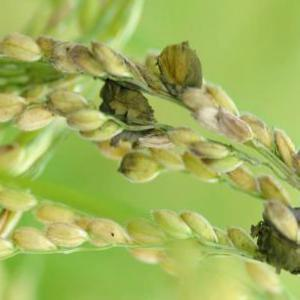Leaf_Scald: (98, 73, 157, 129), (161, 37, 203, 105), (258, 216, 300, 278)
